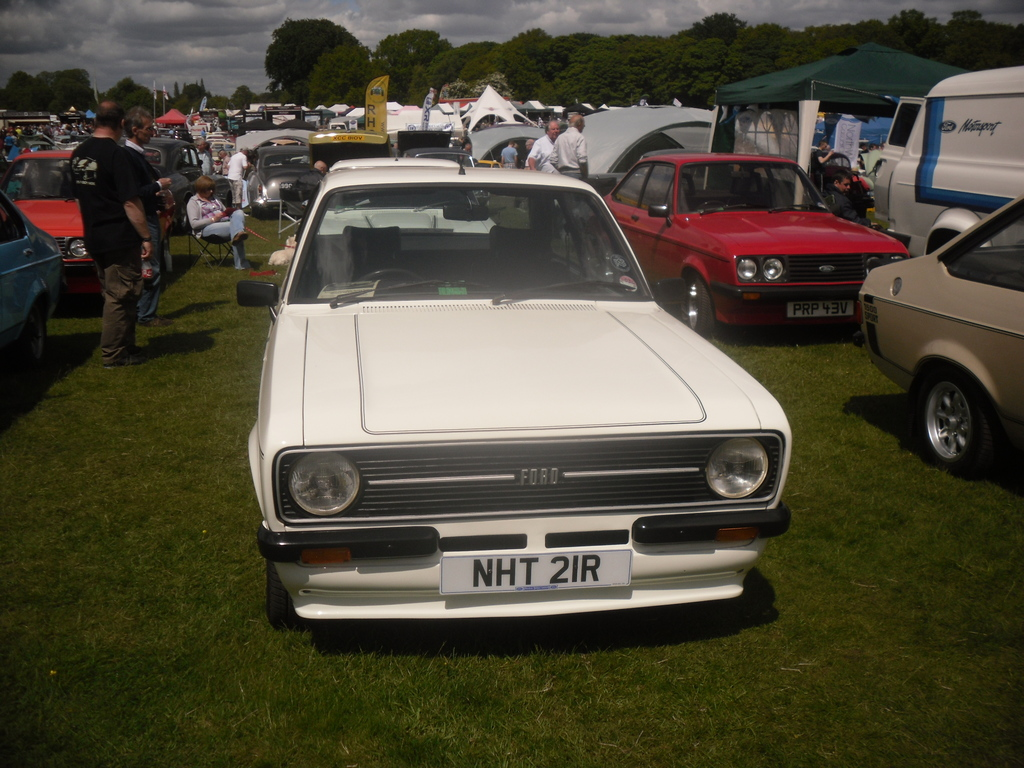Car: (0, 101, 1023, 618)
